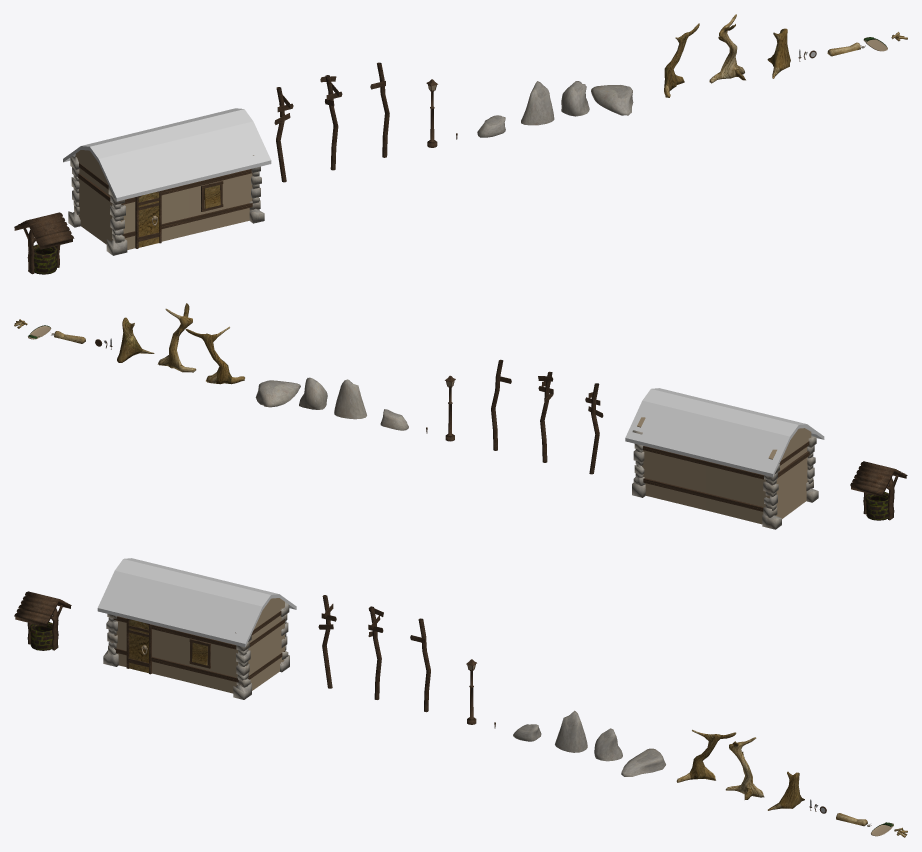
File: aaaa.fbx
The picture shows the model from 3 angles, top to bottom: view 1: azimuth 30°, elevation 25°; view 2: azimuth 150°, elevation 25°; view 3: azimuth 330°, elevation 25°; orthographic projection. The views are drawn at different scales.
Parts seen in each view (by area): view 1: Casa, Poco_Teto, Pedra4, Pedra2, Cylinder.006, Pedra3, Cylinder.005, Cylinder.001, Cylinder, Cylinder.007, Poco_Base, Cylinder.002; view 2: Casa, Poco_Teto, Pedra2, Pedra4, Cylinder.005, Cylinder.006, Pedra3, Cylinder.007, Cylinder.001, Cylinder, Poco_Base, Cylinder.002; view 3: Casa, Poco_Teto, Pedra2, Cylinder.005, Pedra4, Cylinder.006, Pedra3, Cylinder.001, Cylinder, Cylinder.007, Poco_Base.
Boxes of the visible parts, x1,y1,x2,y2 form: Casa: (63,108,271,255); Poco_Teto: (14,212,74,274); Pedra4: (591,85,633,115); Pedra2: (521,81,554,125); Cylinder.006: (709,14,745,83); Pedra3: (561,81,589,116); Cylinder.005: (664,23,699,97); Cylinder.001: (320,75,342,170); Cylinder: (274,87,293,182); Cylinder.007: (767,28,790,78); Poco_Base: (33,244,57,274); Cylinder.002: (370,62,389,157); Casa: (625,388,824,529); Poco_Teto: (850,461,907,520); Pedra2: (334,379,366,419); Pedra4: (255,380,300,407); Cylinder.005: (185,326,244,384); Cylinder.006: (157,303,196,372); Pedra3: (299,377,327,409); Cylinder.007: (117,317,154,362); Cylinder.001: (538,371,553,462); Cylinder: (585,383,603,474); Poco_Base: (865,492,888,520); Cylinder.002: (491,359,511,450); Casa: (97,558,296,699); Poco_Teto: (14,591,71,650); Pedra2: (555,710,587,752); Cylinder.005: (676,729,736,782); Pedra4: (621,748,665,776); Cylinder.006: (725,737,764,799); Pedra3: (594,728,622,761); Cylinder.001: (368,606,383,699); Cylinder: (318,595,336,688); Cylinder.007: (767,771,804,810); Poco_Base: (29,622,52,650).
Bounding box in the file's own units: 4137 × 425 × 471.
